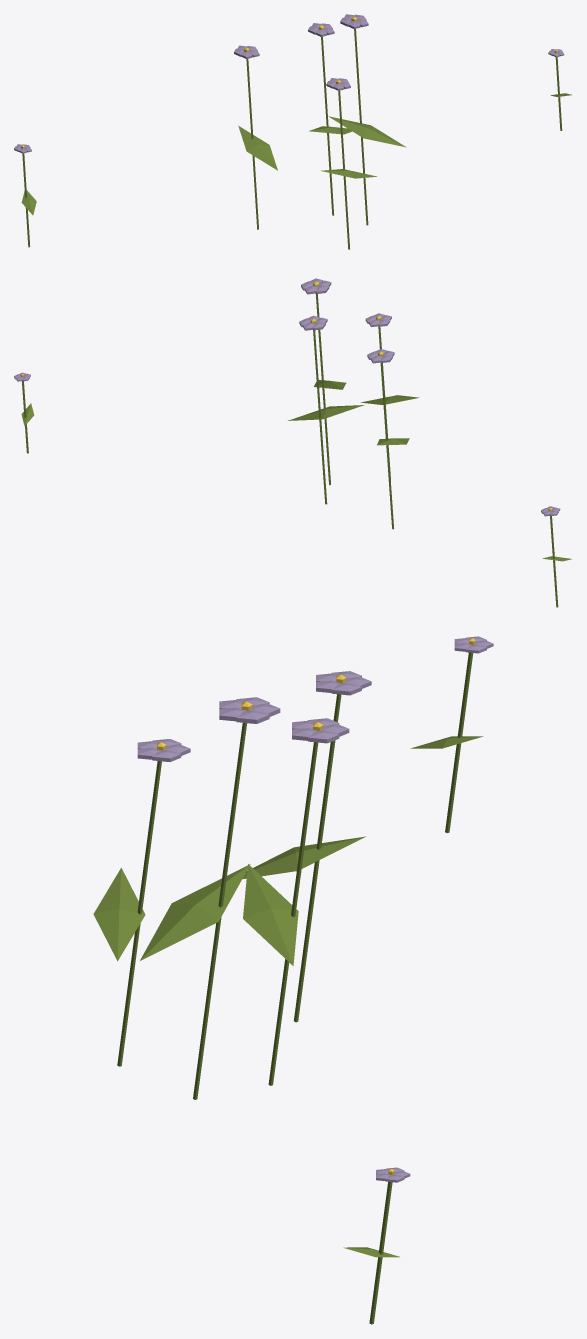
The model's file is Foreground_SoftFlowersAndTallGrass.obj.
The picture shows the model from 3 angles, top to bottom: view 1: azimuth 30°, elevation 25°; view 2: azimuth 150°, elevation 25°; view 3: azimuth 270°, elevation 25°; orthographic projection. The views are drawn at different scales.
Visible parts, largest first — view 1: Foreground_SoftFlowersAndTallGrass; view 2: Foreground_SoftFlowersAndTallGrass; view 3: Foreground_SoftFlowersAndTallGrass.
Boxes of the visible parts, x1,y1,x2,y2 form: Foreground_SoftFlowersAndTallGrass: (14,14,571,249); Foreground_SoftFlowersAndTallGrass: (14,278,571,607); Foreground_SoftFlowersAndTallGrass: (93,636,493,1324).
Bounding box in the file's own units: 4.83 × 1.76 × 1.59.
Materials: 1 (1 with a texture image).
